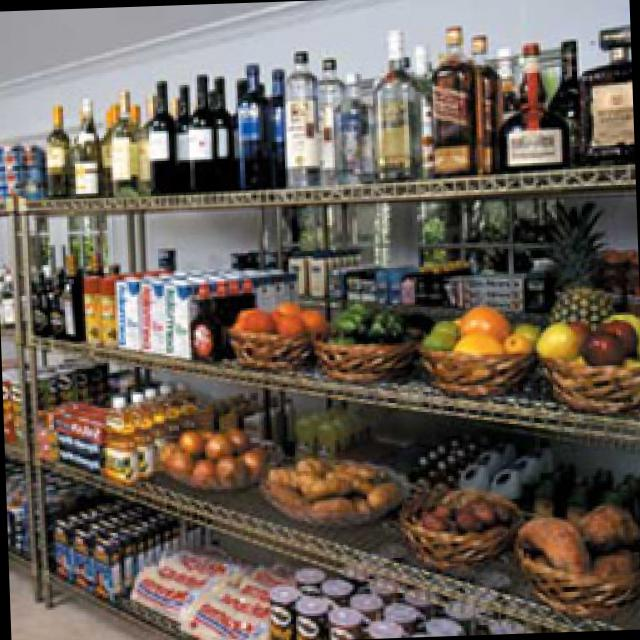basket crop: (409, 483, 520, 561), (518, 553, 640, 610), (413, 344, 536, 397), (539, 352, 640, 410), (313, 329, 414, 379), (230, 326, 316, 369)
bottle crop: (499, 37, 572, 164), (433, 20, 480, 176), (374, 27, 422, 178), (289, 45, 323, 183), (337, 71, 375, 177), (240, 59, 270, 188), (190, 71, 220, 189), (150, 75, 178, 191), (113, 84, 140, 192), (48, 99, 71, 194)
bottles occluded: (103, 375, 198, 479), (192, 277, 259, 359)
boxs: (121, 264, 294, 357)
cakes: (515, 500, 640, 567), (427, 485, 517, 528)
cans: (0, 140, 41, 196)
ceiling beam: (0, 1, 292, 90)
floor -X: (8, 483, 421, 640)
fruits bowl: (426, 300, 550, 351), (536, 307, 639, 362), (172, 430, 272, 477), (240, 298, 330, 330)
pack: (130, 561, 204, 623)
pineapple plant: (552, 193, 615, 325)
shelves crop: (0, 157, 640, 639)
tray occluded: (165, 429, 282, 486)
vegetables: (330, 299, 413, 342)
wall clock: (0, 0, 640, 634)
